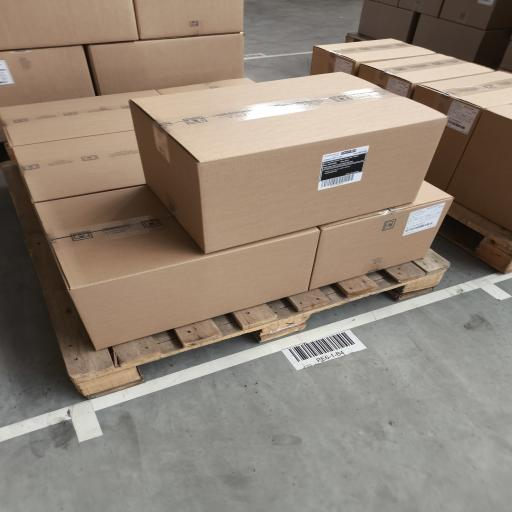pallet: (2, 162, 449, 397), (439, 203, 511, 273), (346, 33, 374, 42), (4, 142, 15, 159)
